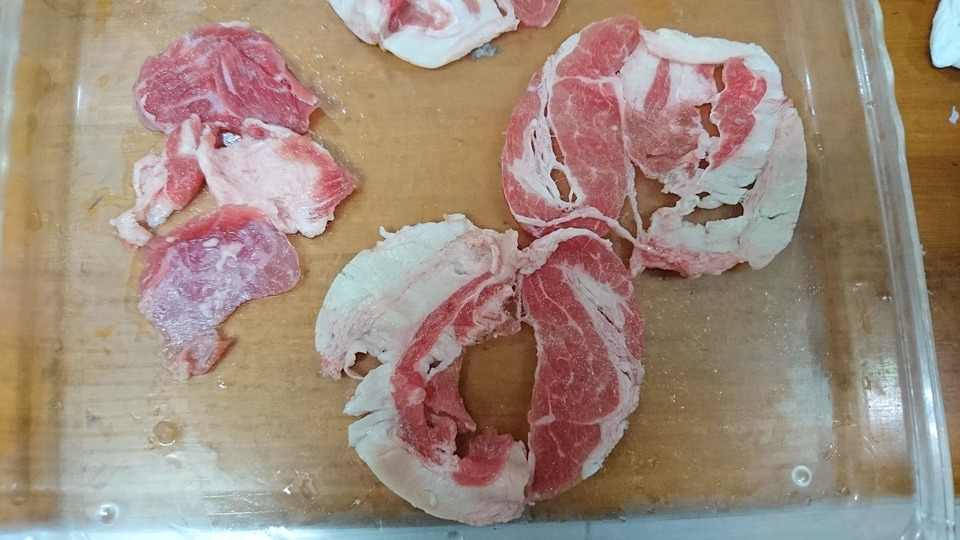restructured meat: (321, 215, 656, 528), (481, 1, 816, 312), (114, 14, 364, 377)
